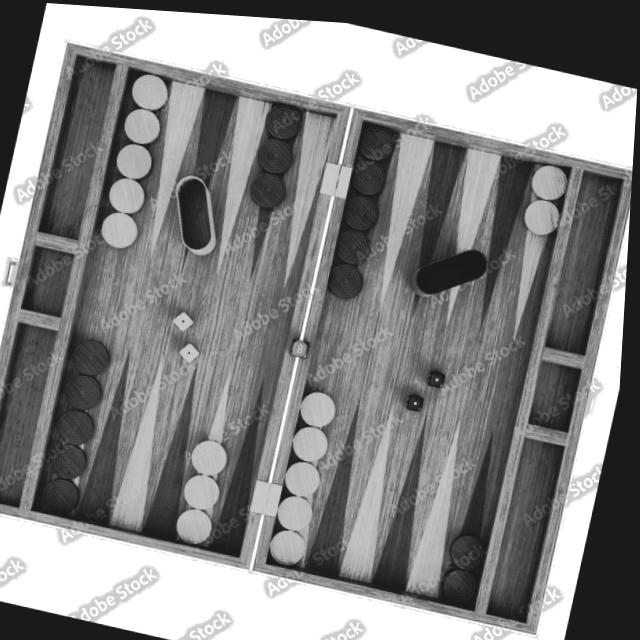bar: (246, 116, 363, 556)
board: (32, 61, 580, 611)
dark_p: (65, 367, 113, 417), (56, 403, 105, 447), (52, 439, 98, 485), (44, 471, 90, 517), (445, 559, 491, 603), (73, 334, 117, 379), (248, 166, 291, 210), (453, 523, 497, 566), (265, 96, 307, 141), (344, 186, 386, 230), (359, 116, 401, 160), (255, 133, 299, 174), (328, 256, 370, 298), (336, 221, 378, 263), (352, 151, 393, 191)
dice: (289, 328, 319, 360), (179, 336, 206, 365), (174, 306, 201, 333), (429, 361, 454, 386), (408, 386, 431, 408)
light_p: (99, 203, 148, 254), (126, 66, 176, 115), (119, 102, 170, 149), (300, 381, 347, 429), (285, 452, 334, 498), (178, 502, 226, 547), (522, 187, 567, 235), (105, 172, 154, 216), (191, 431, 236, 476), (280, 486, 325, 530), (185, 468, 230, 511), (293, 418, 338, 461), (114, 138, 158, 181), (272, 523, 316, 565), (531, 154, 572, 197)
